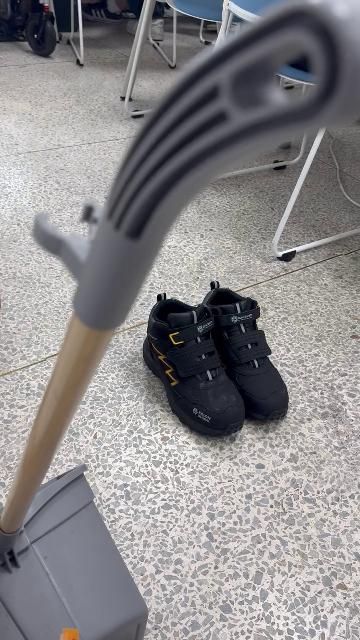shoe_worn: (143, 293, 248, 437), (197, 282, 292, 424)
